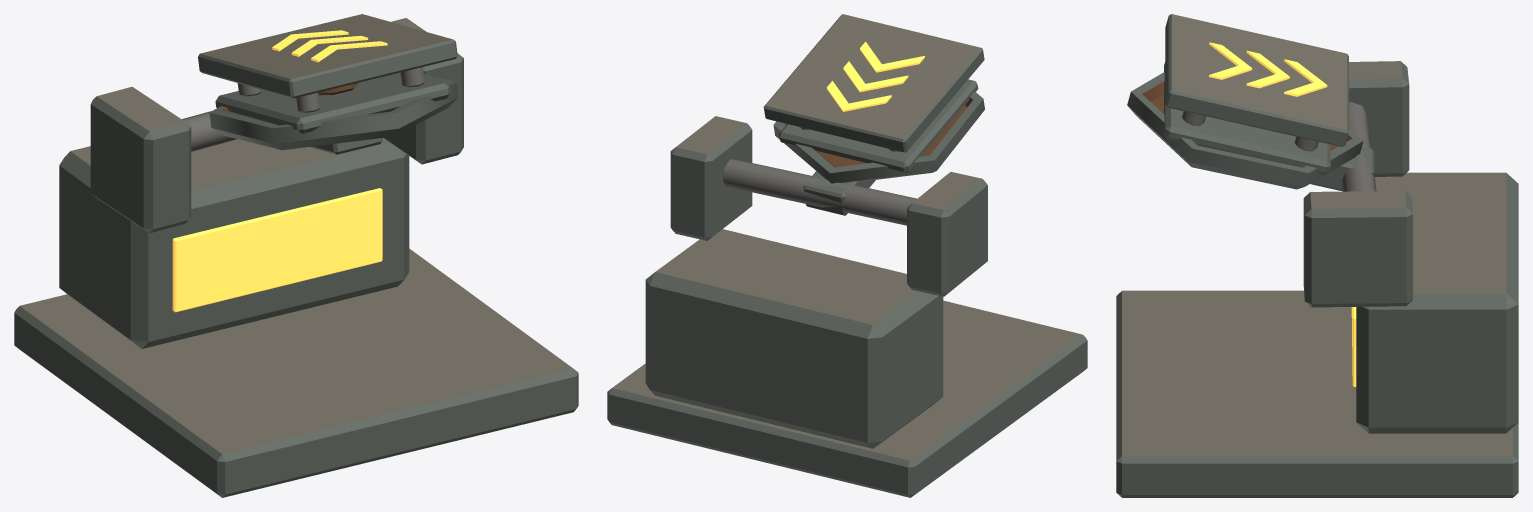
Rendered from R4X_KnockbackTrapDeployer_LOD1.fbx.
3 renders of one model, left to right at view 1: azimuth 30°, elevation 25°; view 2: azimuth 150°, elevation 25°; view 3: azimuth 270°, elevation 25°, orthographic. The views are drawn at different scales.
Parts seen in each view (by area): view 1: R4X_KnockbackTrapDeployer_LOD1; view 2: R4X_KnockbackTrapDeployer_LOD1; view 3: R4X_KnockbackTrapDeployer_LOD1.
Part boxes in pixels (bbox=[...]): R4X_KnockbackTrapDeployer_LOD1: bbox=[14, 14, 578, 497]; R4X_KnockbackTrapDeployer_LOD1: bbox=[607, 14, 1087, 497]; R4X_KnockbackTrapDeployer_LOD1: bbox=[1116, 14, 1518, 497].
Bounding box in the file's own units: 0.52 × 0.5176 × 0.52.
